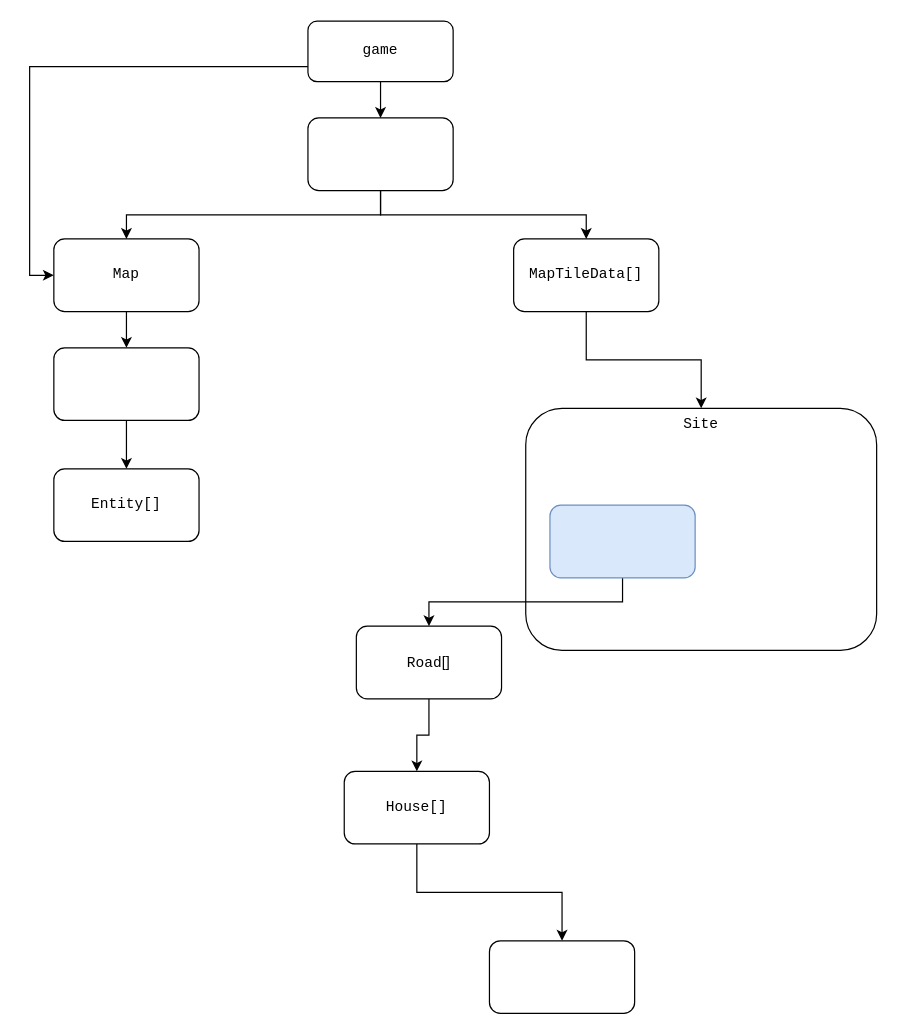
The diagram is 898 pixels wide and 1035 high, and some of its shapes have lost their labels. The shapes that lost their labels are listed below. From the top down, each one's centre as x and y in pixels, then its label:
(x=380, y=154): WorldMap
(x=126, y=383): MapTile[]
(x=622, y=541): Town
(x=561, y=976): HistoricalEntity[]
